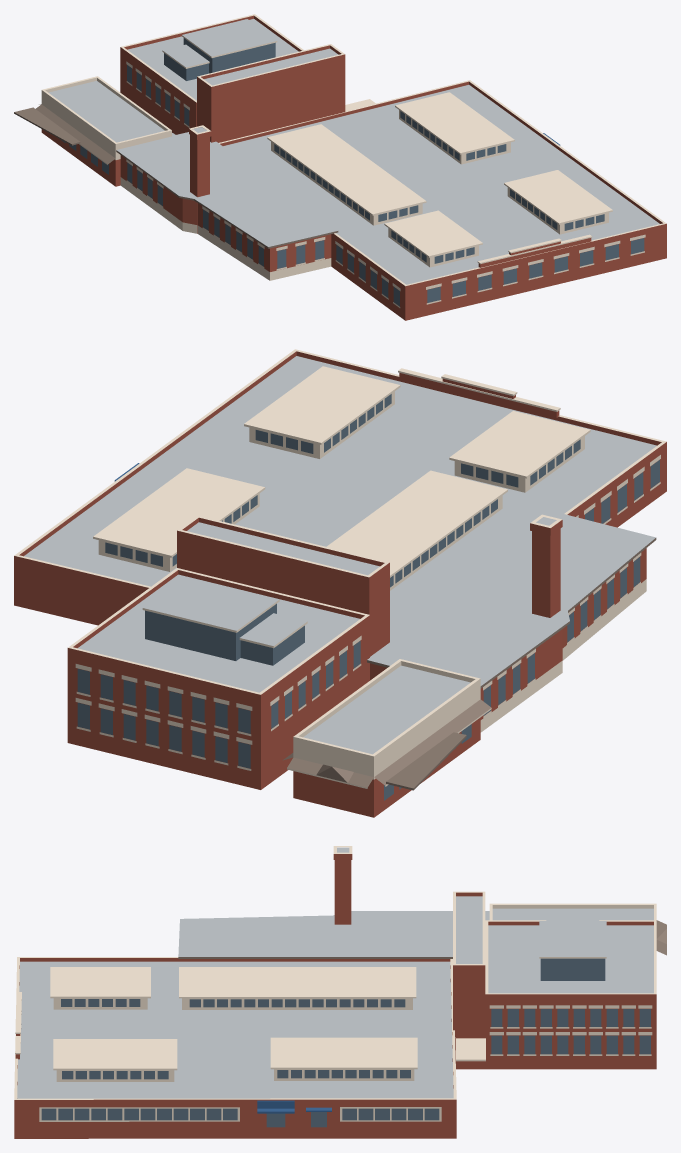
Rendered from clt-atherton-mill.glb.
3 renders of one model, top to bottom at view 1: azimuth 30°, elevation 25°; view 2: azimuth 150°, elevation 25°; view 3: azimuth 270°, elevation 25°, orthographic. The views are drawn at different scales.
Visible parts, largest first — view 1: Atherton Mill; view 2: Atherton Mill; view 3: Atherton Mill.
Part boxes in pixels (x1,y1,x2,y2): Atherton Mill: (14,14,666,320); Atherton Mill: (14,349,666,817); Atherton Mill: (14,846,666,1138).
Bounding box in the file's own units: 67.94 × 17.3 × 91.06.
